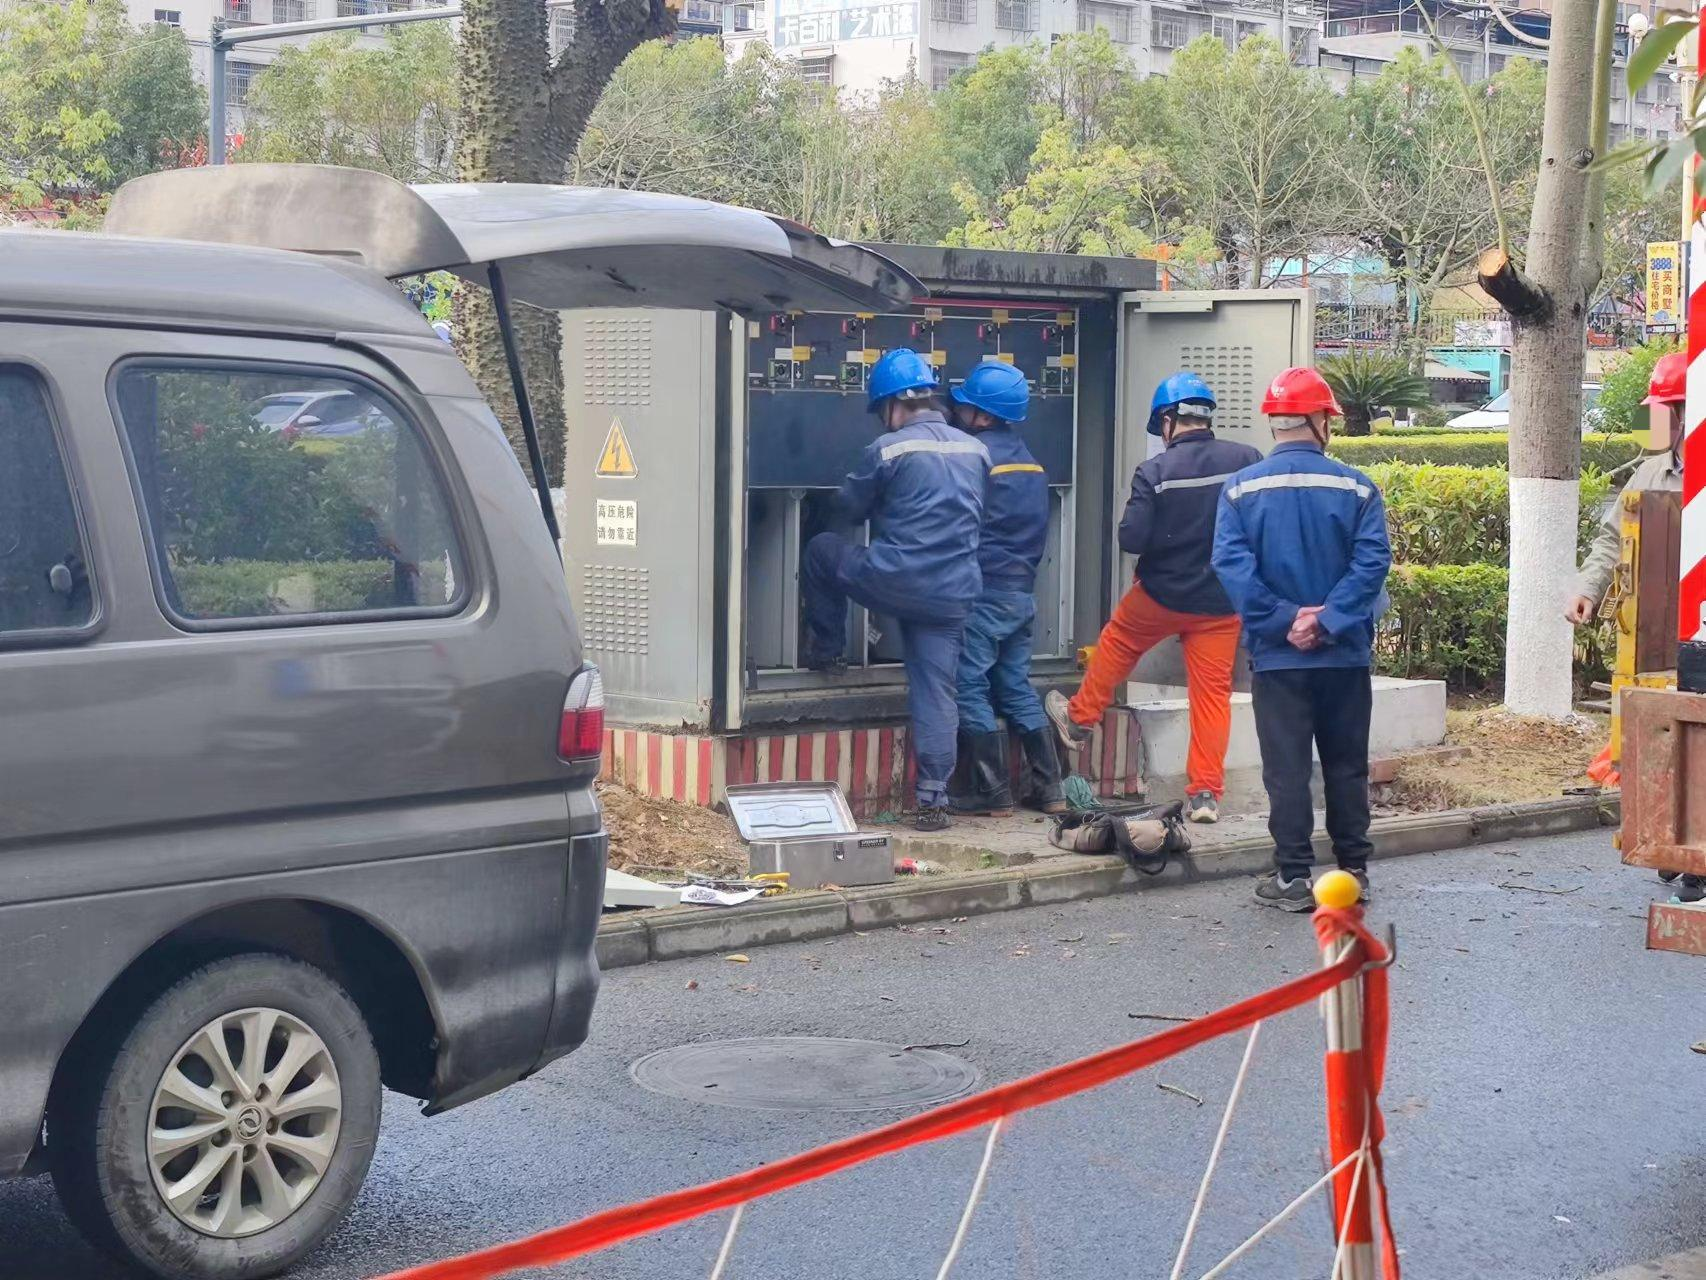halt: (1261, 368, 1347, 450), (952, 360, 1037, 436), (1635, 355, 1690, 461), (868, 351, 946, 425), (1149, 374, 1222, 442)
inear: (1300, 410, 1338, 458), (1153, 414, 1183, 452)
